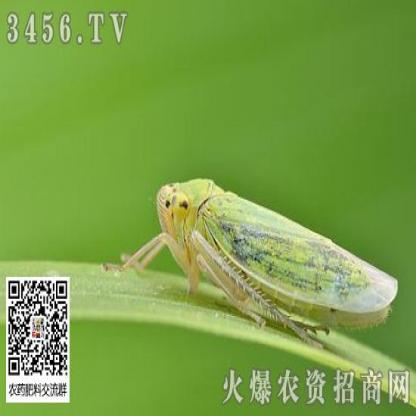Green-Leafhopper: (113, 175, 400, 352)
